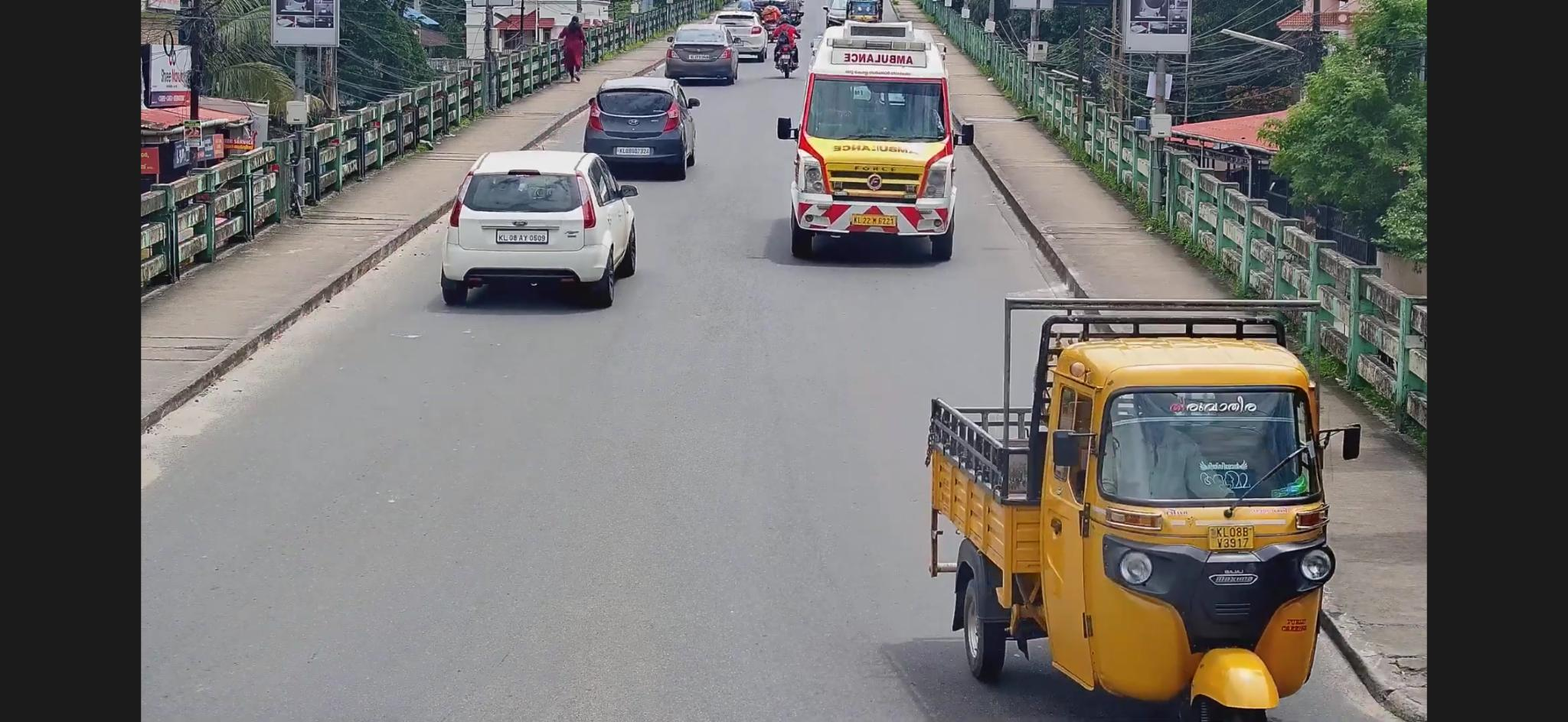ambulance: (791, 11, 963, 263)
